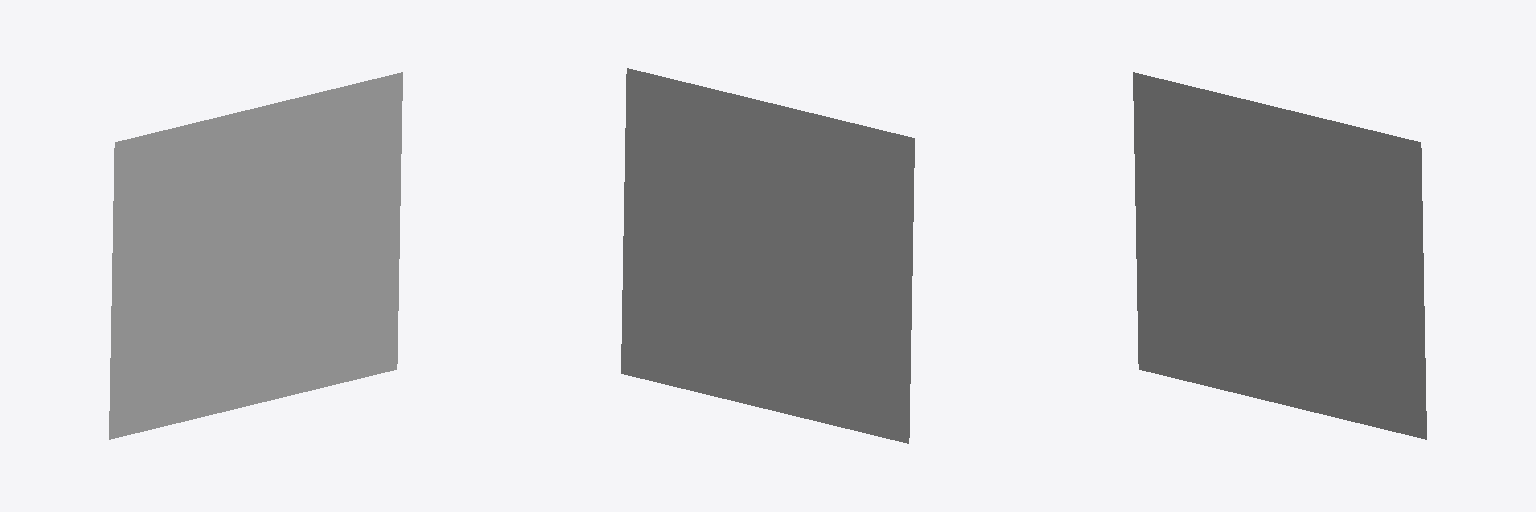
Rendered from plane_face_front.obj.
3 views of the same model, side by side, from view 1: azimuth 30°, elevation 25°; view 2: azimuth 150°, elevation 25°; view 3: azimuth 330°, elevation 25° (orthographic).
Parts seen in each view (by area): view 1: Plane; view 2: Plane; view 3: Plane.
Part boxes in pixels (bbox=[...]): Plane: bbox=[109, 72, 402, 439]; Plane: bbox=[621, 68, 914, 443]; Plane: bbox=[1133, 72, 1426, 439].
Size of the model in its own units: 2 by 2 by 0.068.